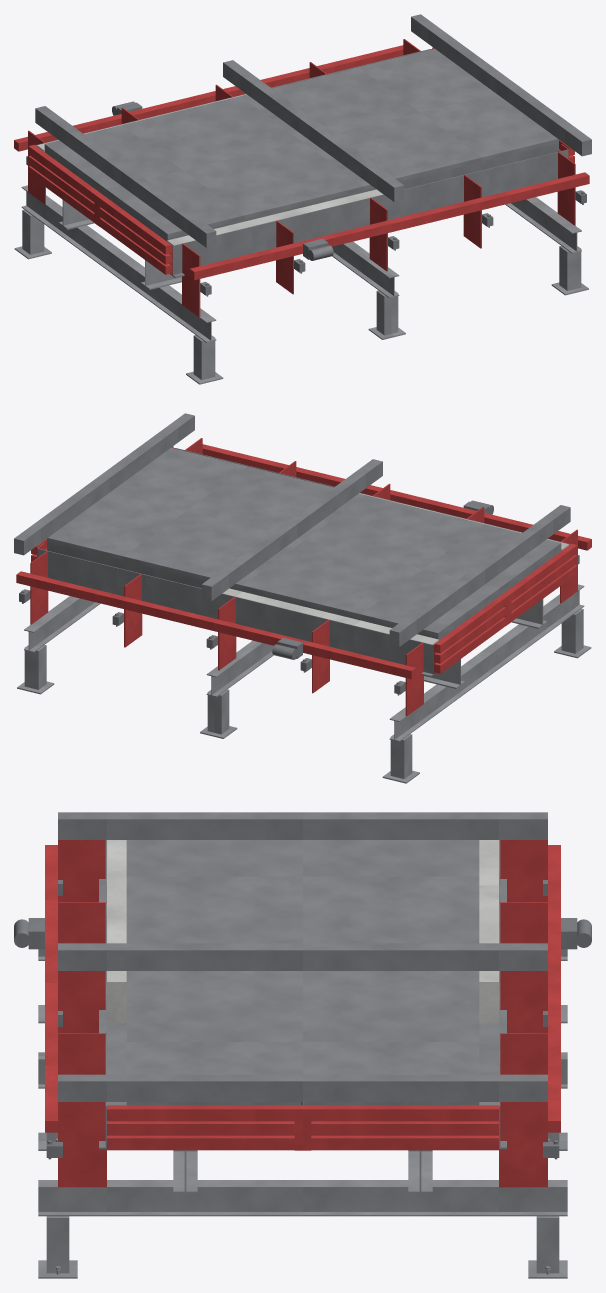
Rendered from noise-barrier-mould.glb.
3 views of the same model, one above another, from view 1: azimuth 30°, elevation 25°; view 2: azimuth 150°, elevation 25°; view 3: azimuth 270°, elevation 25° (orthographic). The views are drawn at different scales.
Visible parts, largest first — view 1: InnerCore, Ribs&Walers, BaseFrame, SideShutters, EndBulkheads, ConcreteUnit(context), Vibrators, Props&Clamps; view 2: InnerCore, Ribs&Walers, BaseFrame, SideShutters, EndBulkheads, ConcreteUnit(context), Vibrators, Props&Clamps; view 3: InnerCore, Ribs&Walers, BaseFrame, EndBulkheads, ConcreteUnit(context), SoffitBed, Vibrators, SideShutters, Props&Clamps.
Boxes of the visible parts, left/top/right/bottom form: InnerCore: left=35, top=14, right=591, bottom=247; Ribs&Walers: left=14, top=39, right=589, bottom=317; BaseFrame: left=14, top=185, right=588, bottom=384; SideShutters: left=35, top=49, right=568, bottom=274; EndBulkheads: left=28, top=47, right=574, bottom=274; ConcreteUnit(context): left=37, top=94, right=383, bottom=245; Vibrators: left=112, top=101, right=333, bottom=260; Props&Clamps: left=26, top=156, right=586, bottom=296; InnerCore: left=14, top=413, right=570, bottom=646; Ribs&Walers: left=16, top=438, right=591, bottom=716; BaseFrame: left=17, top=584, right=591, bottom=783; SideShutters: left=37, top=448, right=570, bottom=673; EndBulkheads: left=31, top=446, right=577, bottom=673; ConcreteUnit(context): left=222, top=493, right=568, bottom=644; Vibrators: left=272, top=500, right=493, bottom=659; Props&Clamps: left=19, top=555, right=579, bottom=695; InnerCore: left=58, top=812, right=547, bottom=1105; Ribs&Walers: left=45, top=840, right=560, bottom=1187; BaseFrame: left=38, top=949, right=567, bottom=1278; EndBulkheads: left=107, top=1105, right=498, bottom=1150; ConcreteUnit(context): left=107, top=840, right=498, bottom=1023; SoffitBed: left=99, top=879, right=506, bottom=1149; Vibrators: left=14, top=918, right=591, bottom=949; SideShutters: left=105, top=840, right=500, bottom=1147; Props&Clamps: left=46, top=880, right=559, bottom=1159.
Size of the model in its own units: 4.14 by 1.38 by 3.54.
Materials: 5 (5 with a texture image).
